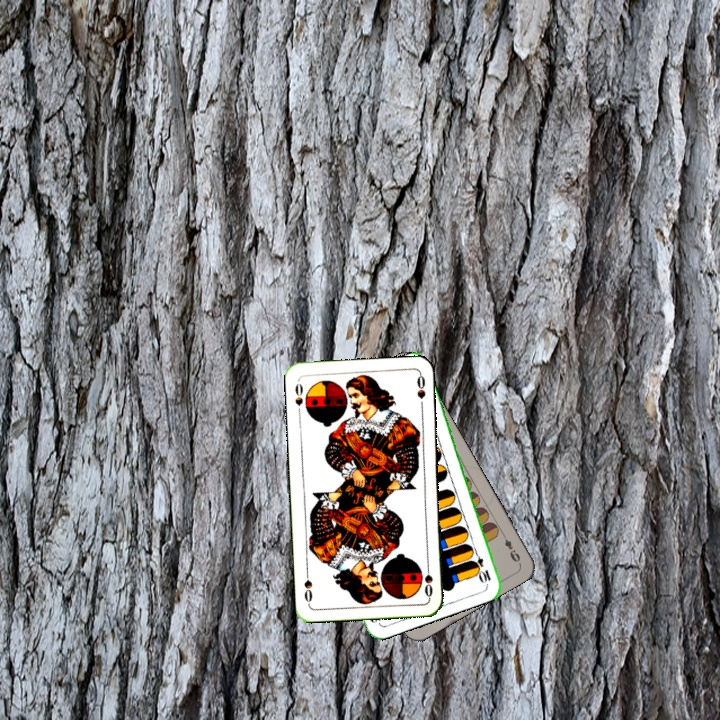E10: (469, 546, 494, 585)
E9: (498, 529, 523, 565)
SO: (420, 560, 435, 600), (291, 377, 306, 417)
